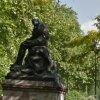Statue: (16, 10, 55, 86)
